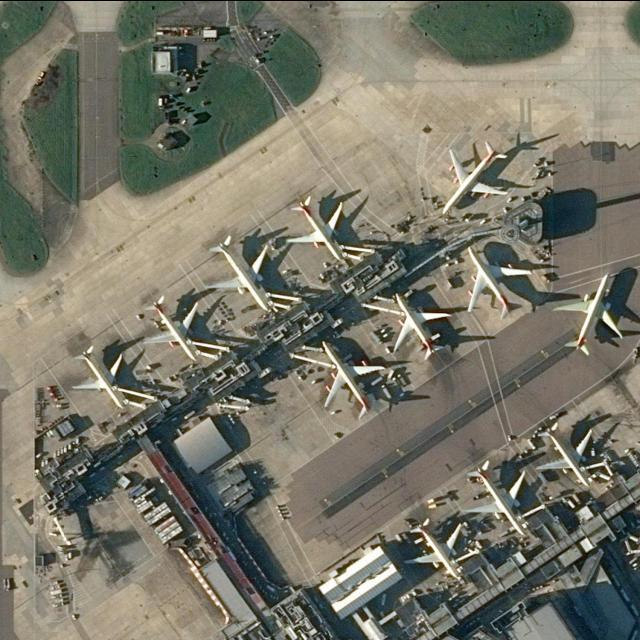Aircraft: (552, 270, 626, 356), (206, 232, 274, 312), (321, 337, 387, 418), (441, 138, 511, 214), (464, 458, 530, 537), (467, 244, 533, 320), (392, 290, 454, 359), (536, 418, 597, 488), (287, 192, 348, 262), (143, 293, 202, 362), (405, 515, 466, 581), (73, 342, 129, 410)
